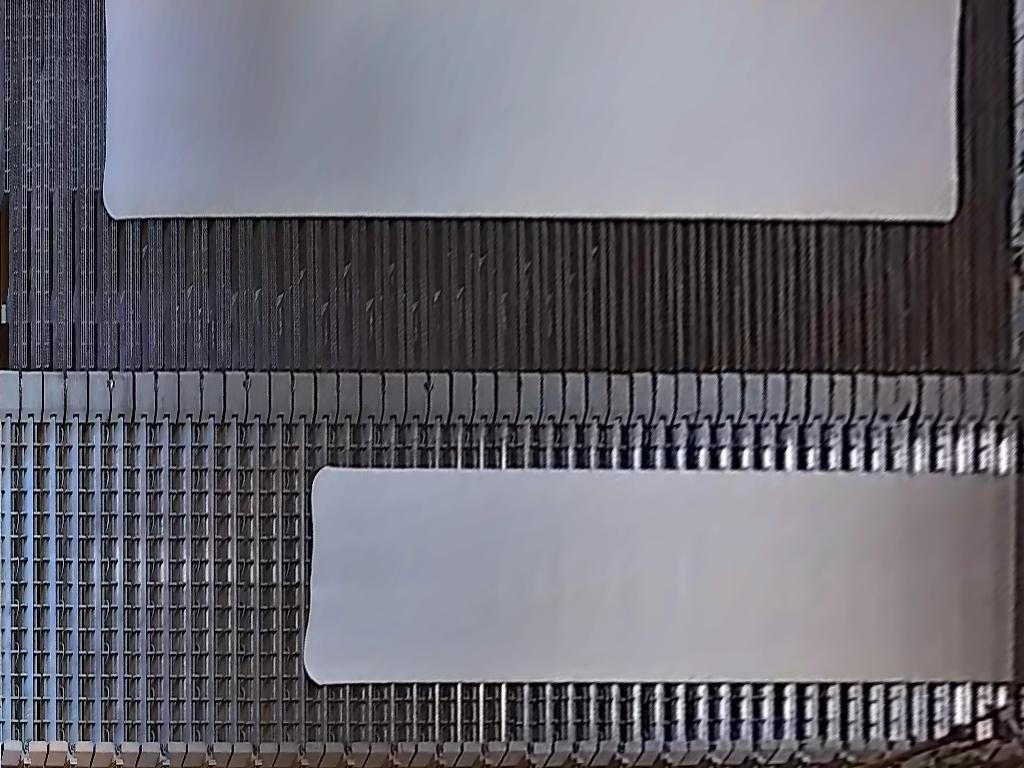steel: (101, 1, 964, 221), (298, 465, 1024, 683)
